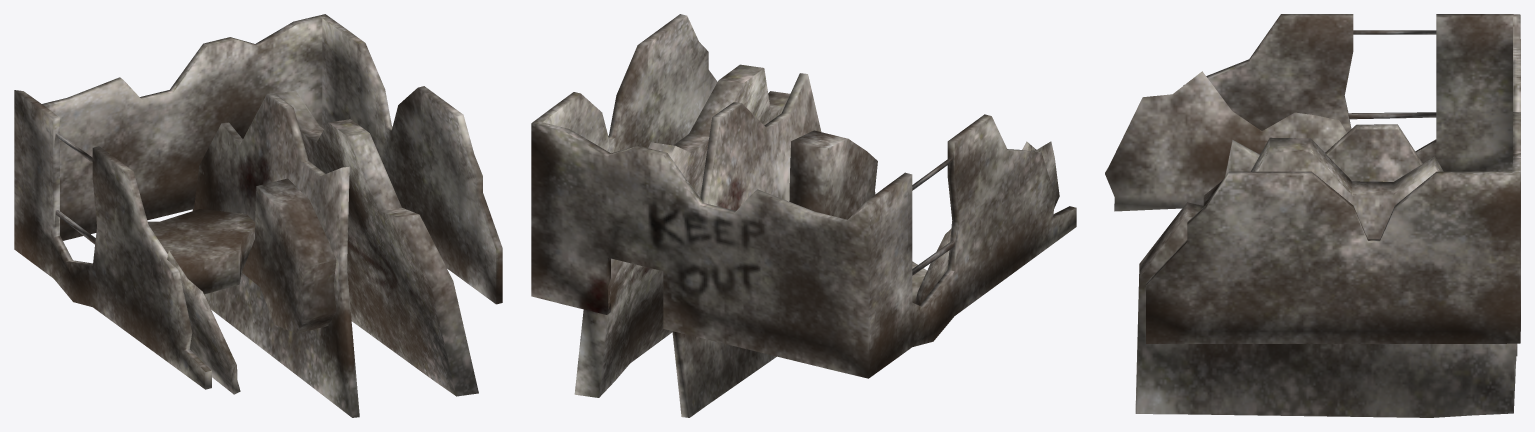
Rendered from EdificioRuinas1.obj.
3 renders of one model, left to right at view 1: azimuth 30°, elevation 25°; view 2: azimuth 150°, elevation 25°; view 3: azimuth 270°, elevation 25°, orthographic. The views are drawn at different scales.
Parts seen in each view (by area): view 1: EdificioRuinas002; view 2: EdificioRuinas002; view 3: EdificioRuinas002.
Boxes of the visible parts, bbox=[...] form: EdificioRuinas002: bbox=[14, 14, 502, 417]; EdificioRuinas002: bbox=[531, 14, 1076, 417]; EdificioRuinas002: bbox=[1105, 14, 1520, 417].
Size of the model in its own units: 88.3 by 65.84 by 96.32.
